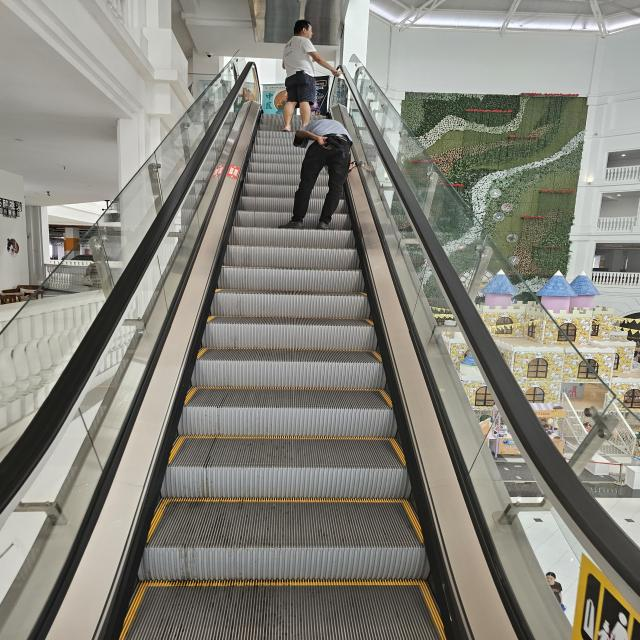escalator: (115, 101, 451, 638)
person: (278, 118, 353, 230), (280, 19, 344, 132), (545, 572, 566, 611)
